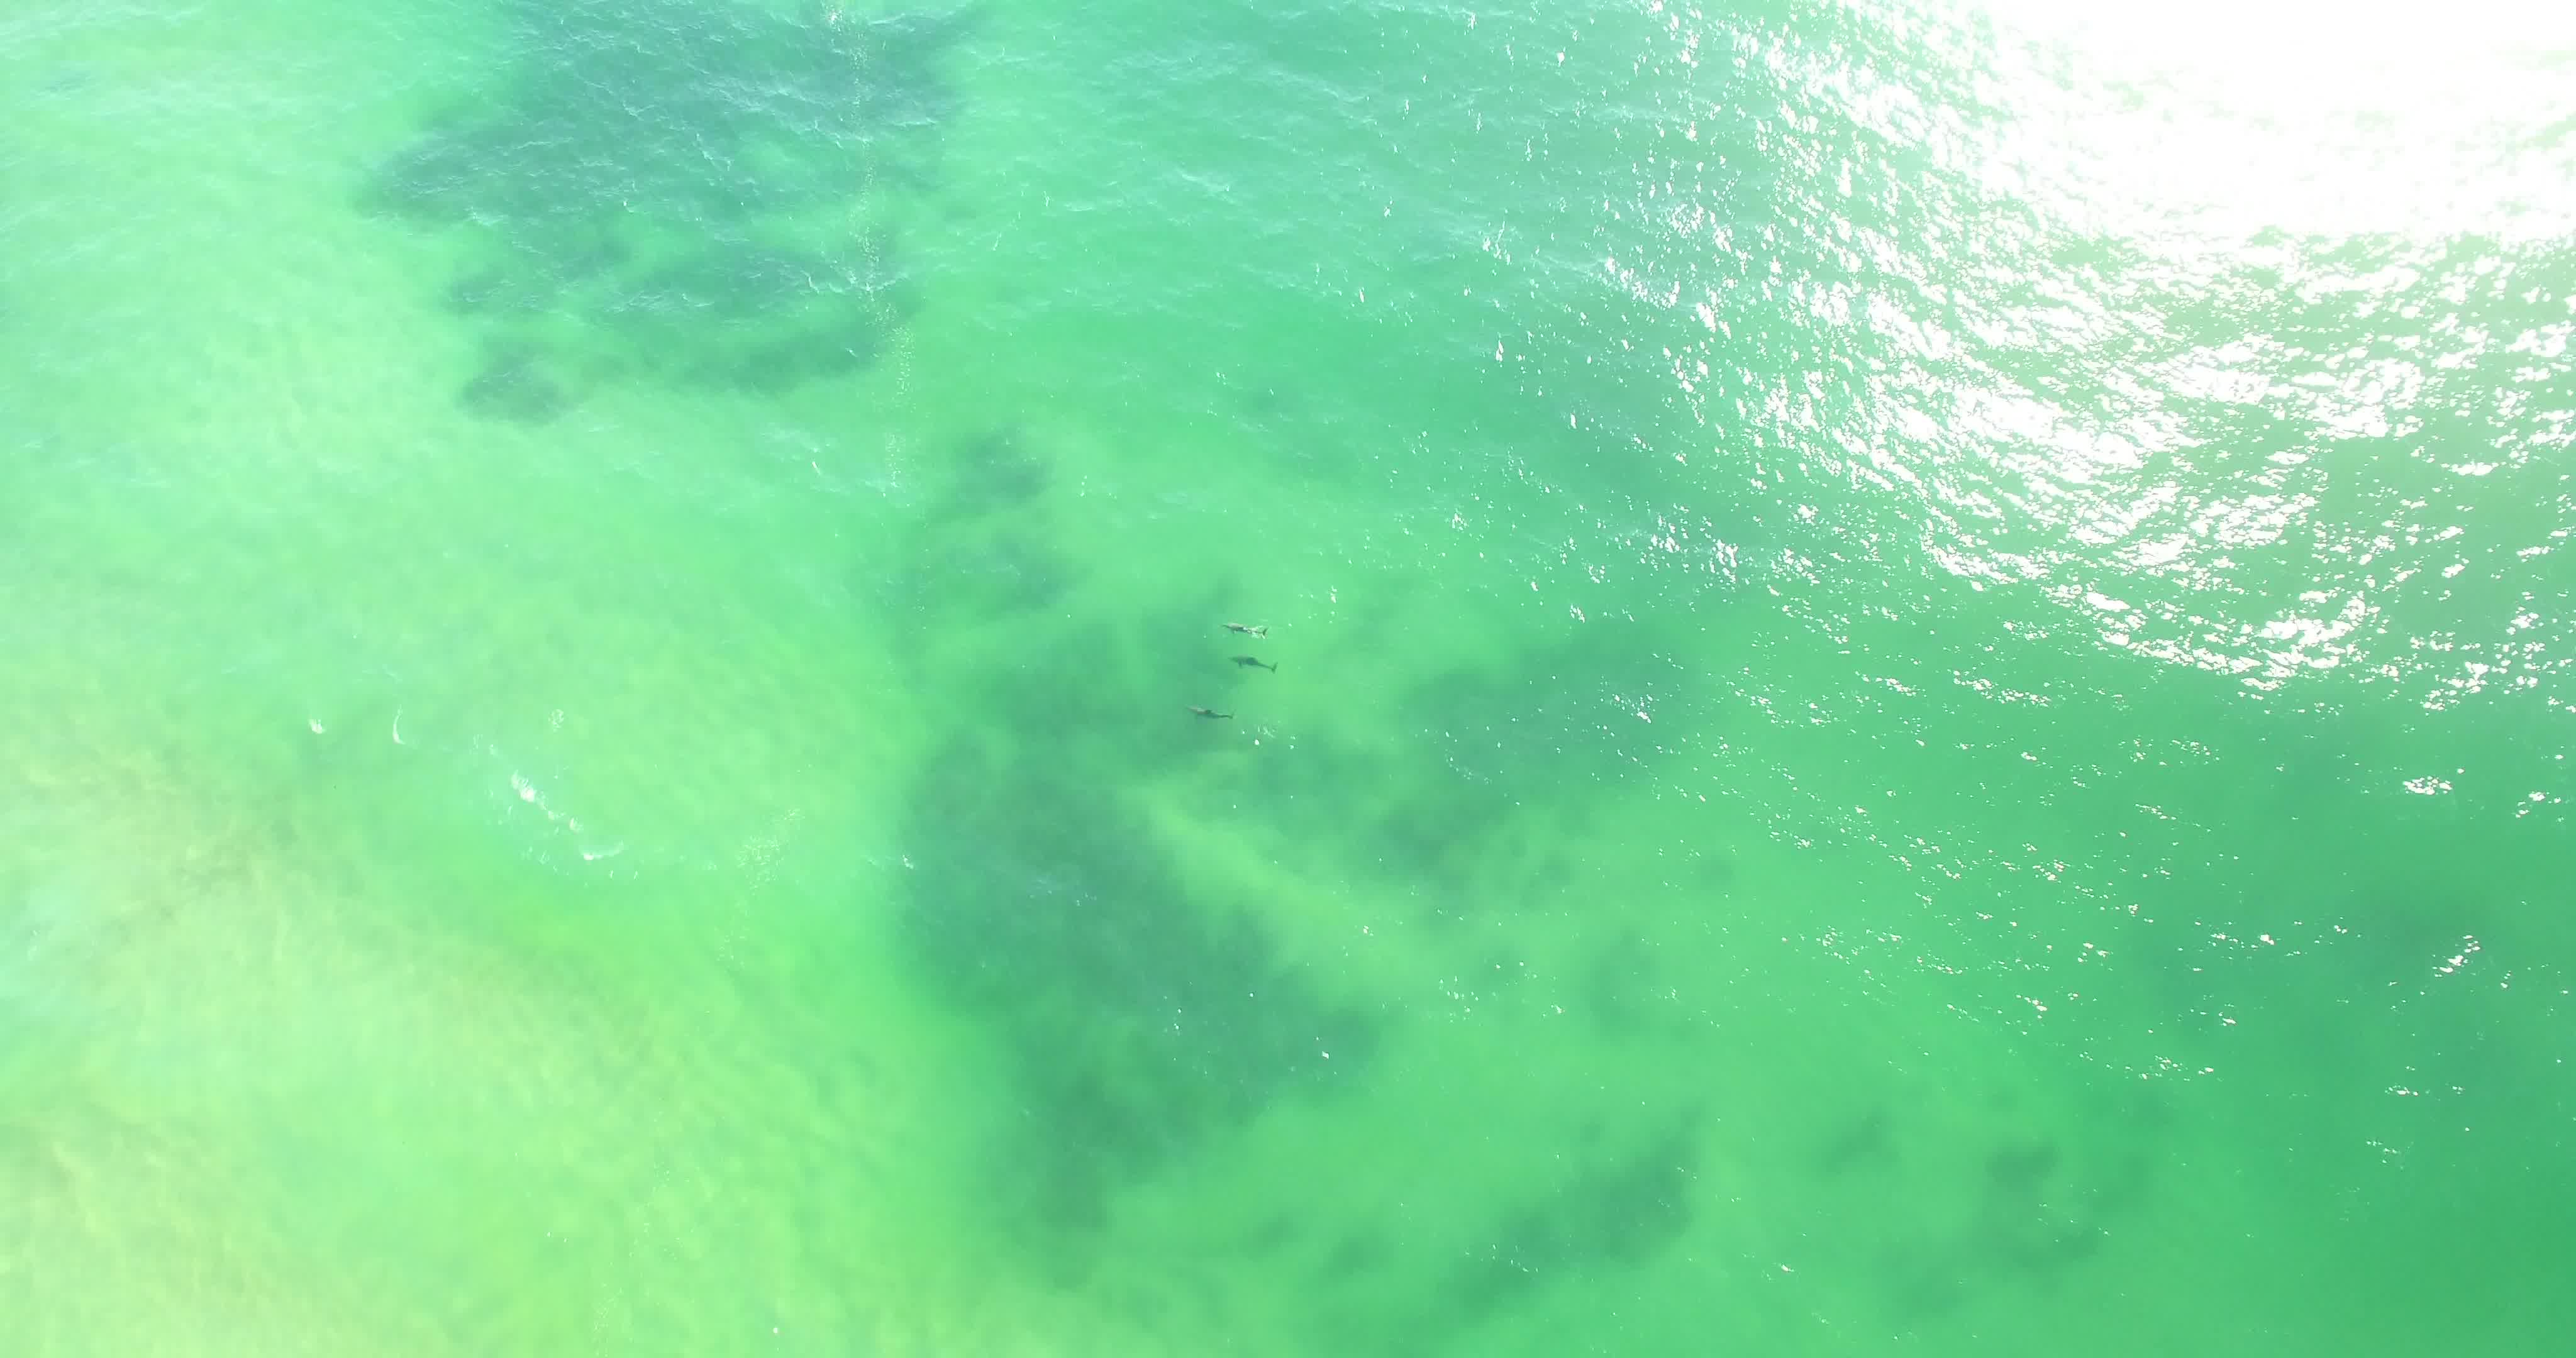dolphin: (1196, 601, 1278, 653), (1165, 692, 1251, 733), (1205, 642, 1295, 680)
